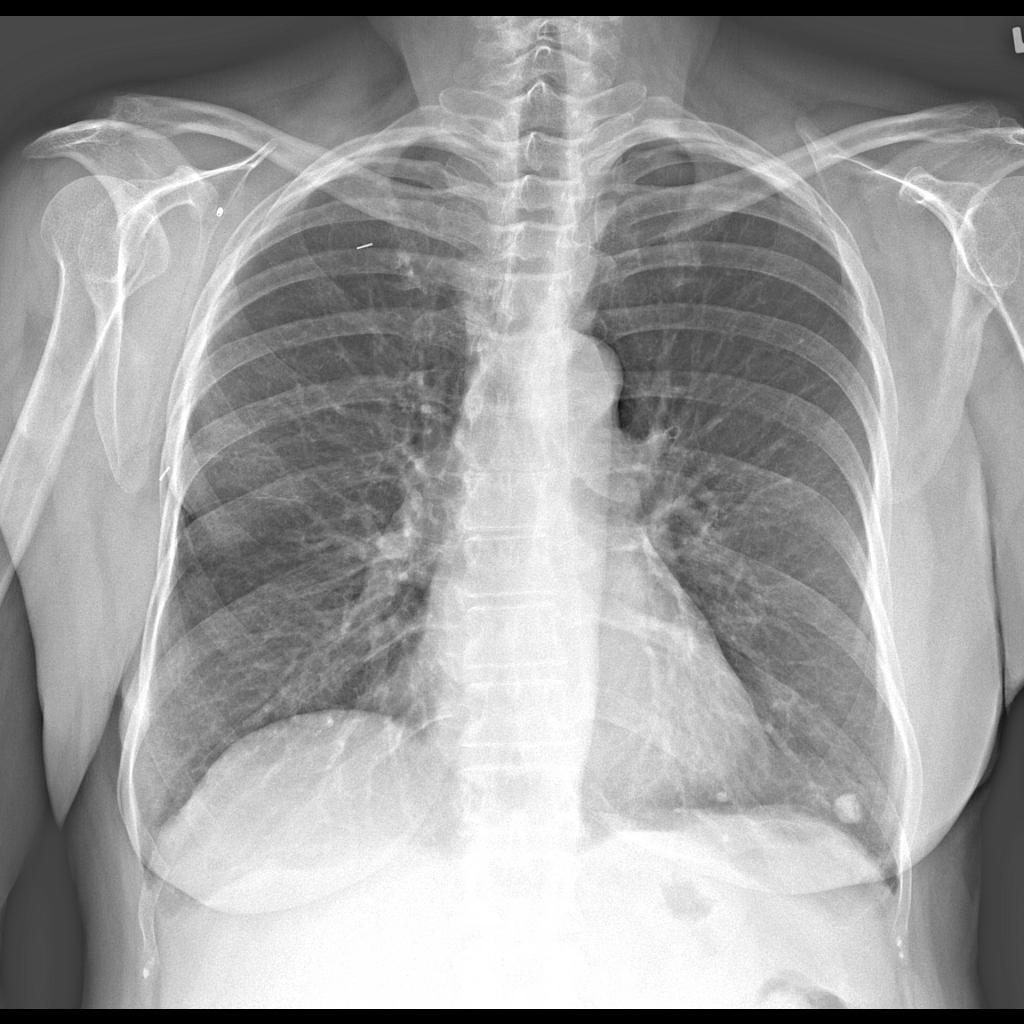Nodule: (842, 800, 868, 826)
